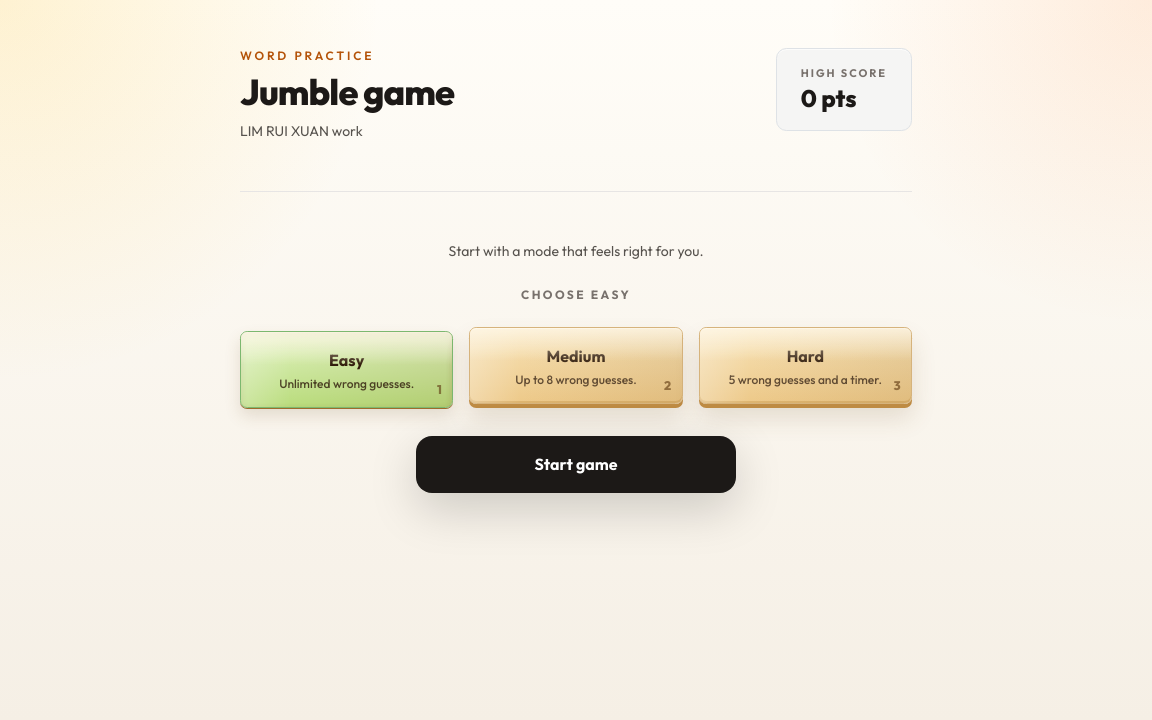
JumbleGame.vue › starts a new game successfully and displays scrambled letters
Click the button with class "start-game-button".
click(576, 464)  # box [416,436,736,493]
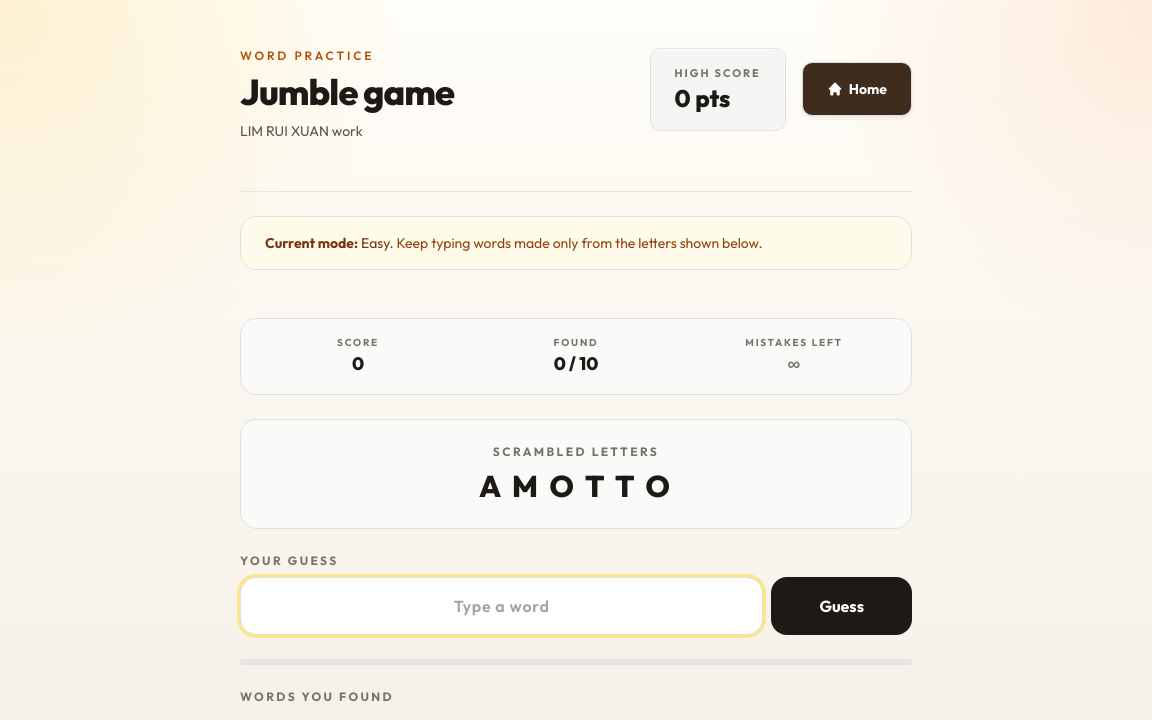
Check: the text "a m o t t o" is shown, box [479,467,673,505]
Check: the text "0 / 10" is shown, box [554,352,598,375]
